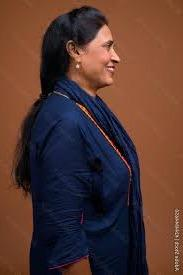Human: (27, 0, 161, 269)
